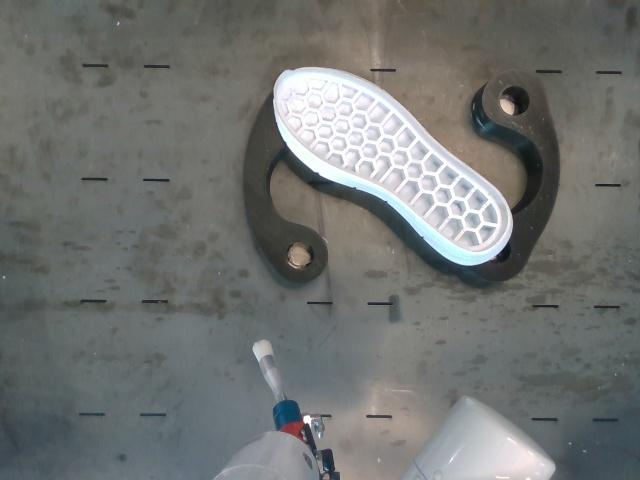shoes: (274, 68, 508, 252)
